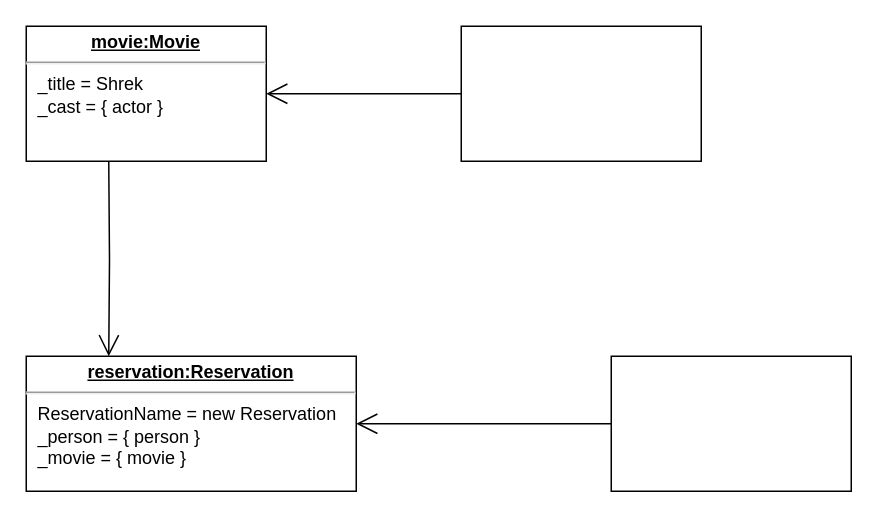
The diagram is 878 pixels wide and 518 high, and some of its shapes have lost their labels. The centre of each missing label's shape, as x and y in pixels:
actor:Actor _firstname = mairo _surname = regel _age = 35: point 580,93
person:Person _firstname = hanz _surname = peter _age = 35: point 730,423
